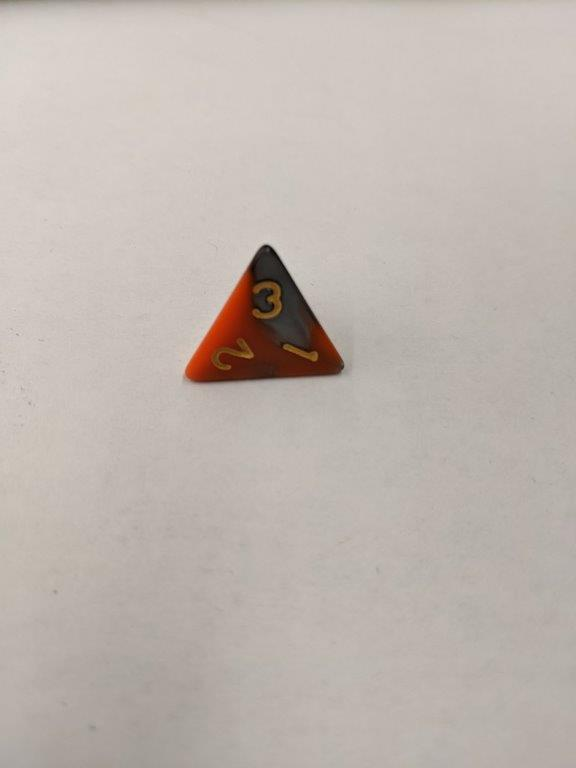d4-3: (179, 239, 348, 390)
